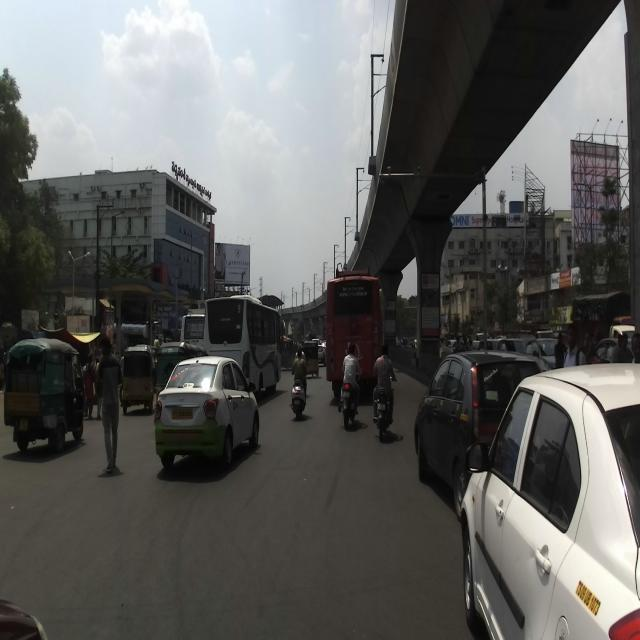Car: (413, 351, 543, 522)
Car_Hyundai: (153, 354, 260, 473)
Car_Maruti-Suzuki: (459, 361, 640, 637)
autorickshaw: (3, 338, 86, 455), (154, 341, 206, 409)
motorcycle_HeroHonda: (337, 368, 362, 429)
